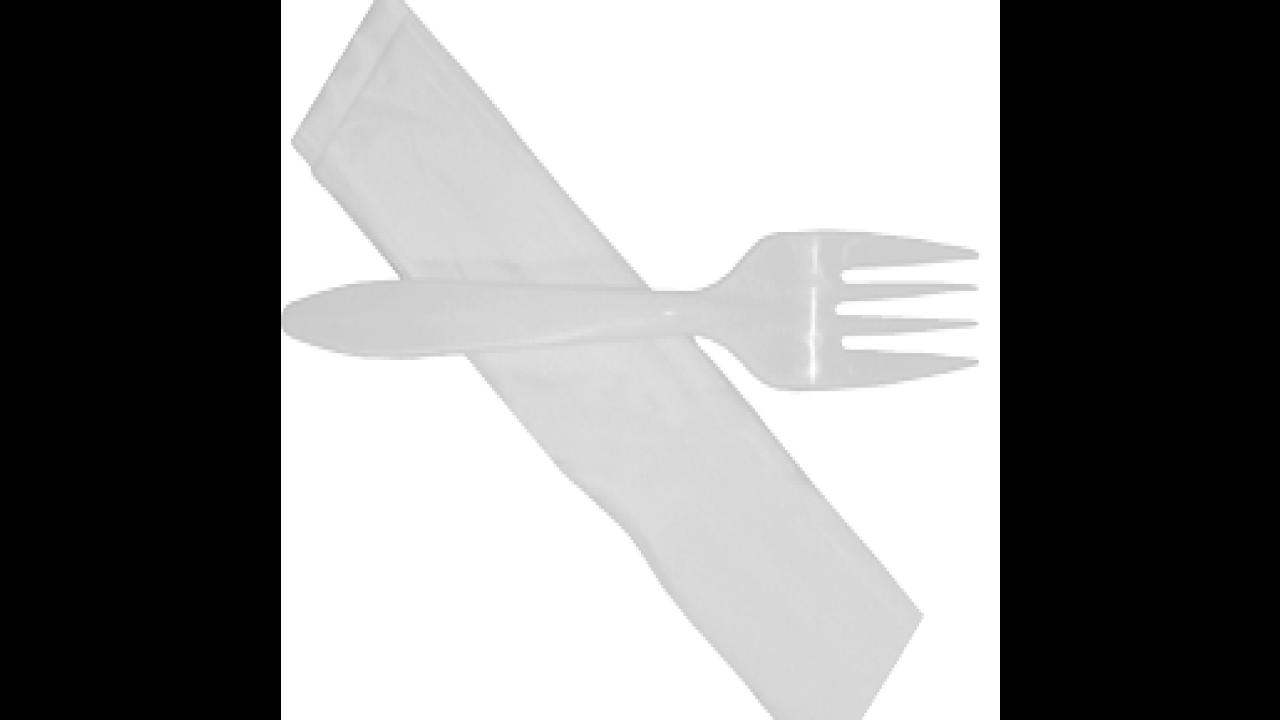fork: (282, 225, 980, 391)
